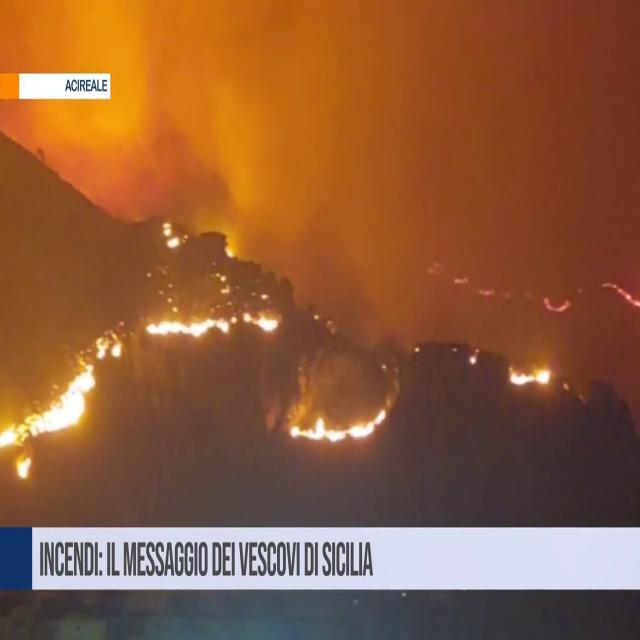Fire: (0, 350, 100, 486), (284, 392, 399, 450), (37, 352, 99, 440), (148, 300, 282, 338), (504, 362, 558, 390)
Smoke: (76, 0, 640, 344)
